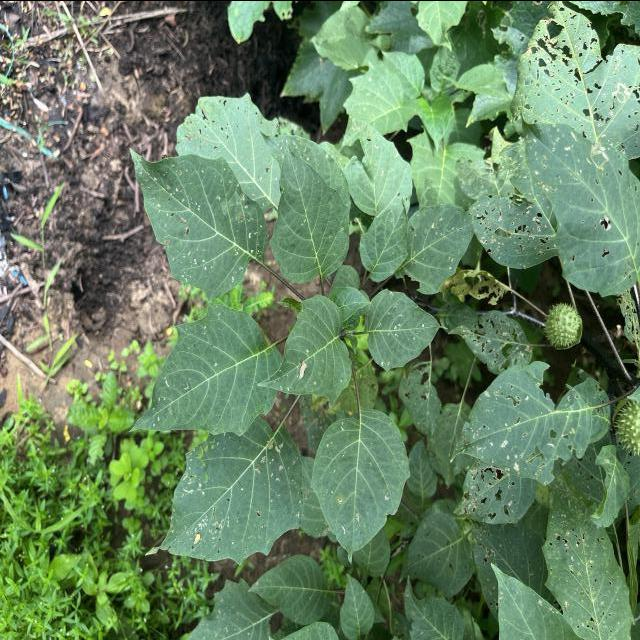Datura metal linn: (142, 414, 307, 567), (127, 143, 269, 302), (126, 298, 284, 437), (308, 403, 413, 566), (268, 134, 352, 284), (255, 290, 355, 407), (363, 285, 450, 372), (357, 193, 409, 284)
